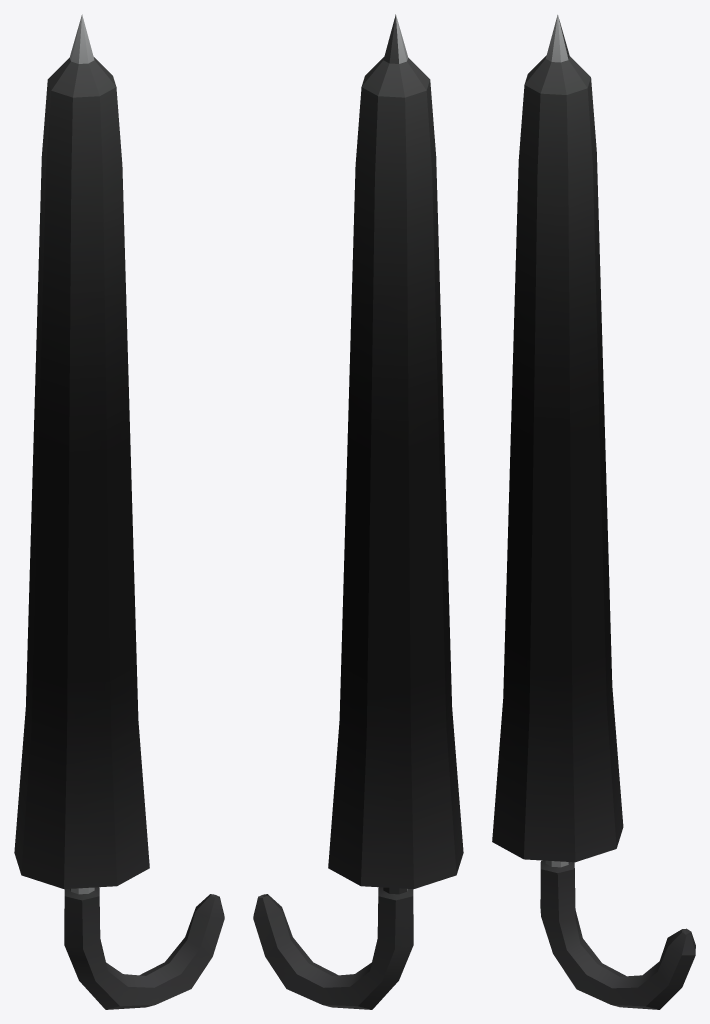
Rendered from Umbrella_Closed.fbx.
The picture shows the model from 3 angles, left to right: view 1: azimuth 30°, elevation 25°; view 2: azimuth 150°, elevation 25°; view 3: azimuth 330°, elevation 25°; orthographic projection. The views are drawn at different scales.
Visible parts, largest first — view 1: Umbrella_Closed; view 2: Umbrella_Closed; view 3: Umbrella_Closed.
Part boxes in pixels (<box>): Umbrella_Closed: <box>14,14,224,1009</box>; Umbrella_Closed: <box>253,14,463,1009</box>; Umbrella_Closed: <box>492,14,695,1009</box>.
Bounding box in the file's own units: 17.02 × 80.83 × 10.18.
